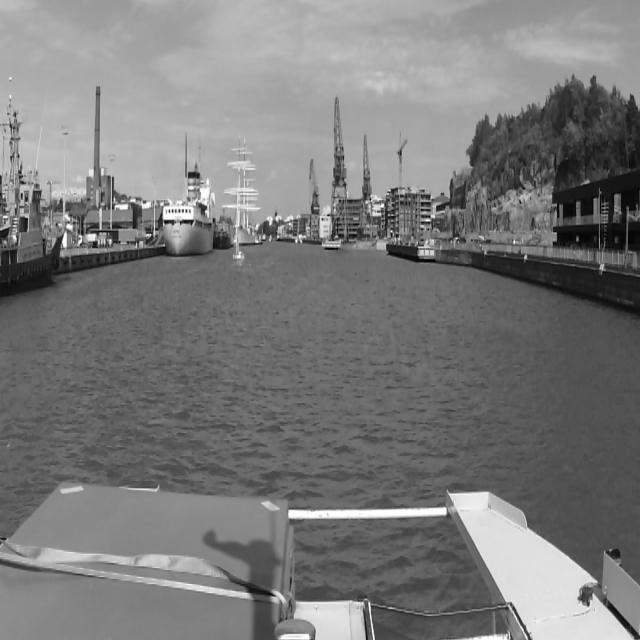ship: (0, 110, 66, 284), (163, 171, 215, 256), (225, 136, 259, 244)
